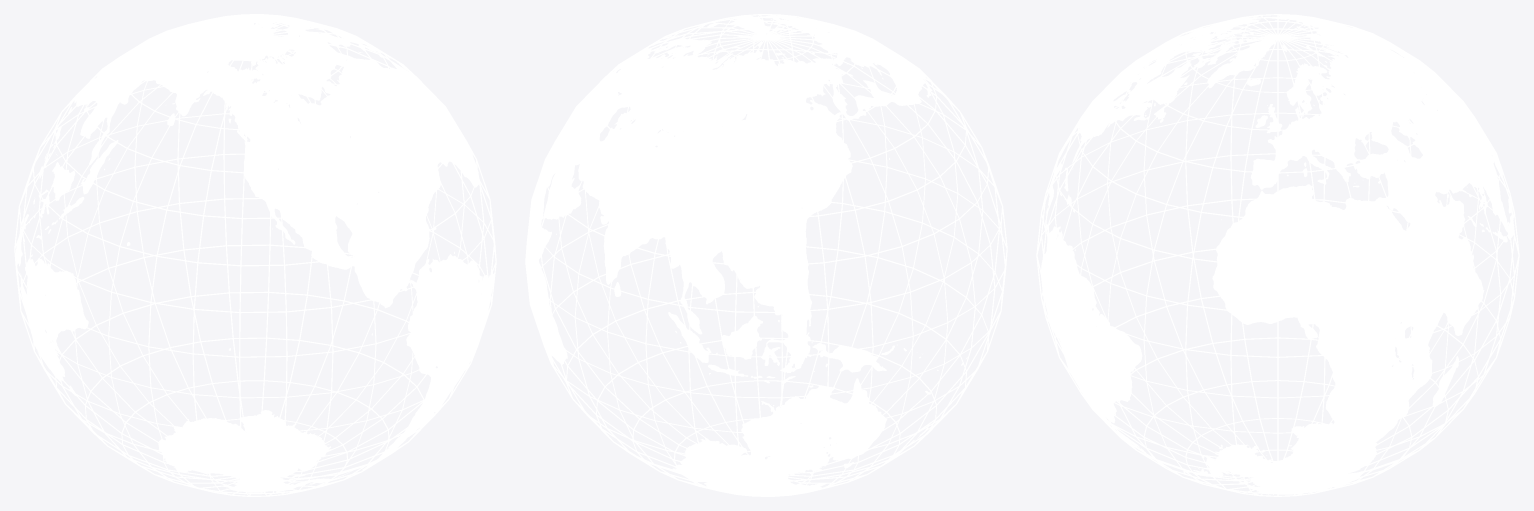
Rendered from wireframe_earth.glb.
3 renders of one model, left to right at view 1: azimuth 30°, elevation 25°; view 2: azimuth 150°, elevation 25°; view 3: azimuth 270°, elevation 25°, orthographic.
Parts seen in each view (by area): view 1: earth, wire.001; view 2: earth, wire.001; view 3: earth, wire.001.
Boxes of the visible parts, x1,y1,x2,y2 form: earth: (16,14,494,492); wire.001: (14,14,496,496); earth: (526,15,986,496); wire.001: (525,14,1007,496); earth: (1041,15,1514,494); wire.001: (1036,14,1519,496).
Bounding box in the file's own units: 2.03 × 2.03 × 2.03.
2 materials, 1 textured.
